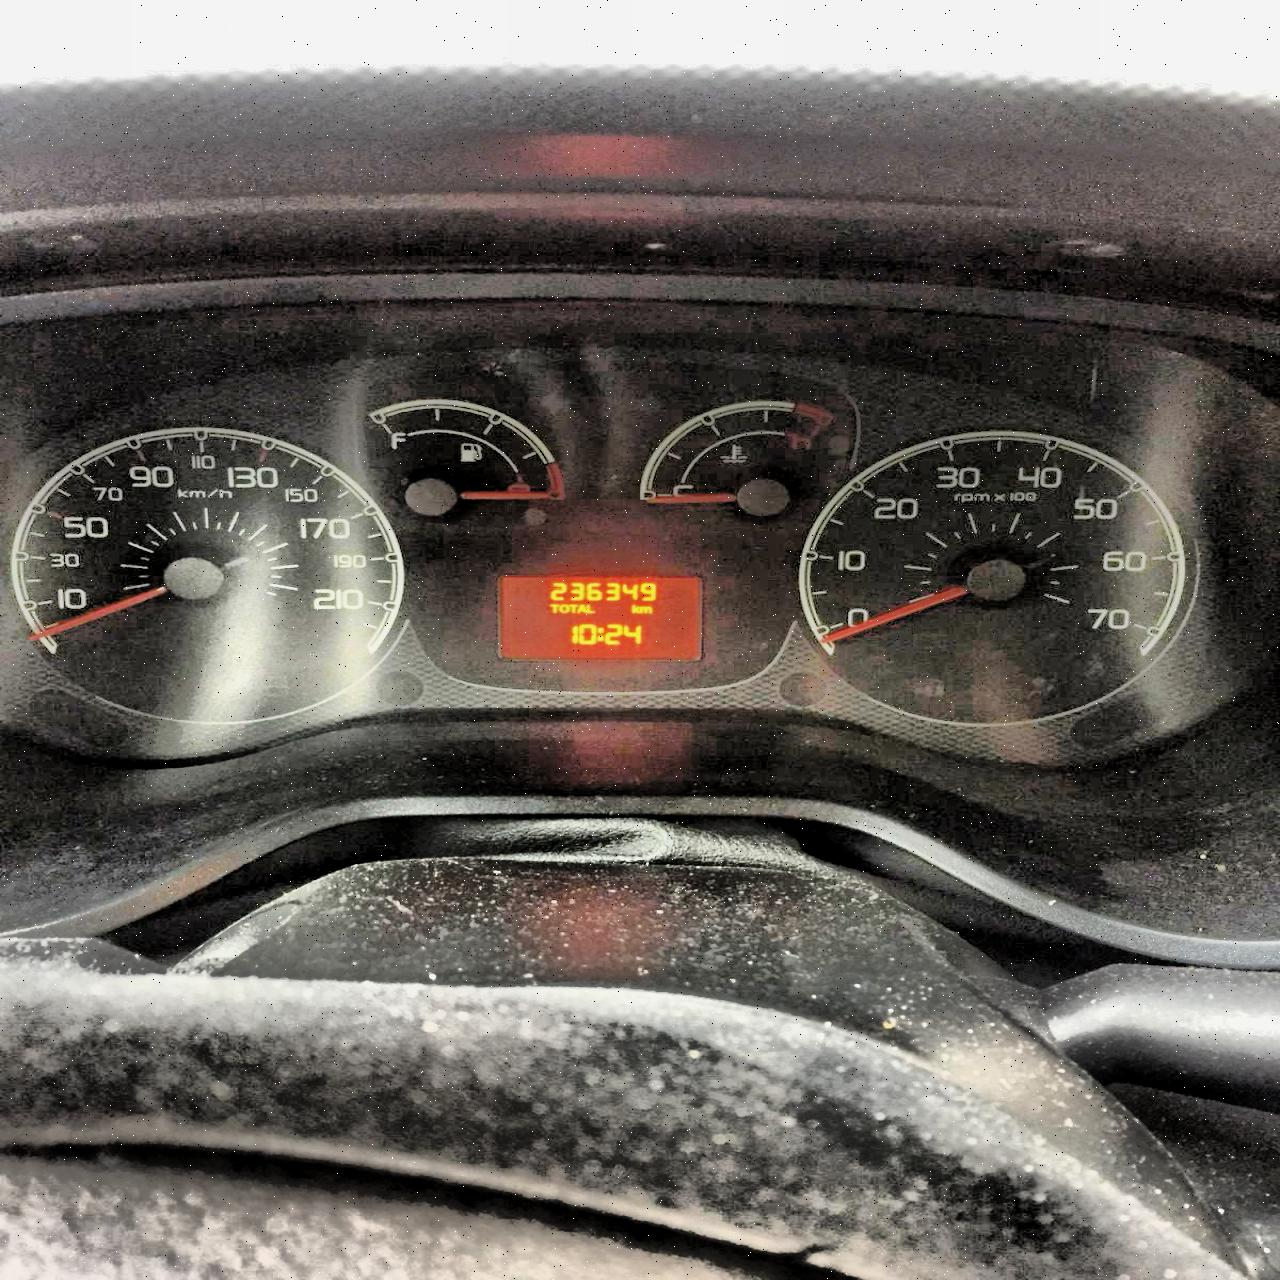0: (578, 622, 595, 645)
1: (571, 624, 577, 645)
2: (605, 622, 622, 646), (549, 581, 566, 600)
3: (570, 581, 585, 601), (605, 581, 620, 600)
4: (622, 622, 641, 644), (621, 581, 638, 600)
6: (586, 581, 601, 601)
9: (639, 581, 656, 600)
X: (586, 604, 598, 614), (549, 601, 558, 614), (558, 602, 568, 613), (639, 605, 652, 613), (597, 626, 602, 644), (577, 604, 585, 614), (568, 602, 577, 613), (631, 604, 639, 614)
odometer: (493, 572, 704, 662)
